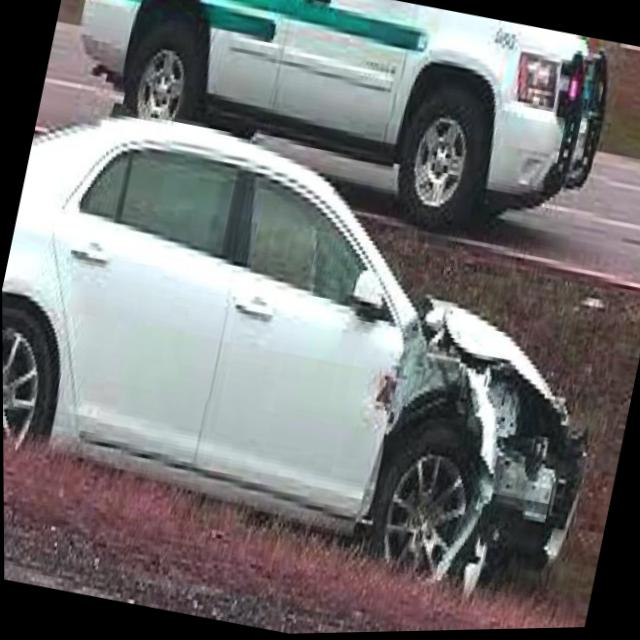Car-Damage: (333, 284, 618, 617)
